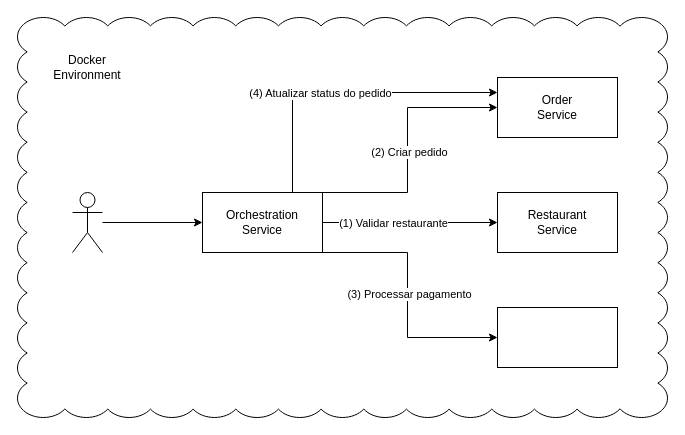
Some shapes in this 685 by 435 pixel diagram are drawn without their labels. The centre of each missing label's shape, as x and y in pixels:
Payment Service: the point at 557,337
User: the point at 87,222
